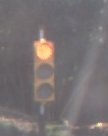Red: (30, 37, 55, 102)
